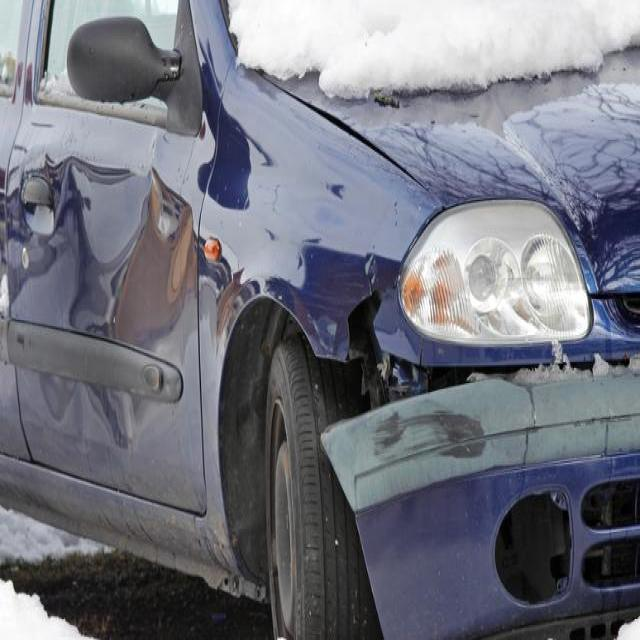Dent: (370, 409, 406, 452), (144, 128, 166, 183), (548, 337, 565, 371), (590, 350, 610, 377), (362, 251, 375, 282), (327, 182, 344, 198), (416, 342, 424, 372), (528, 400, 536, 425), (15, 331, 24, 344), (334, 536, 338, 544)
